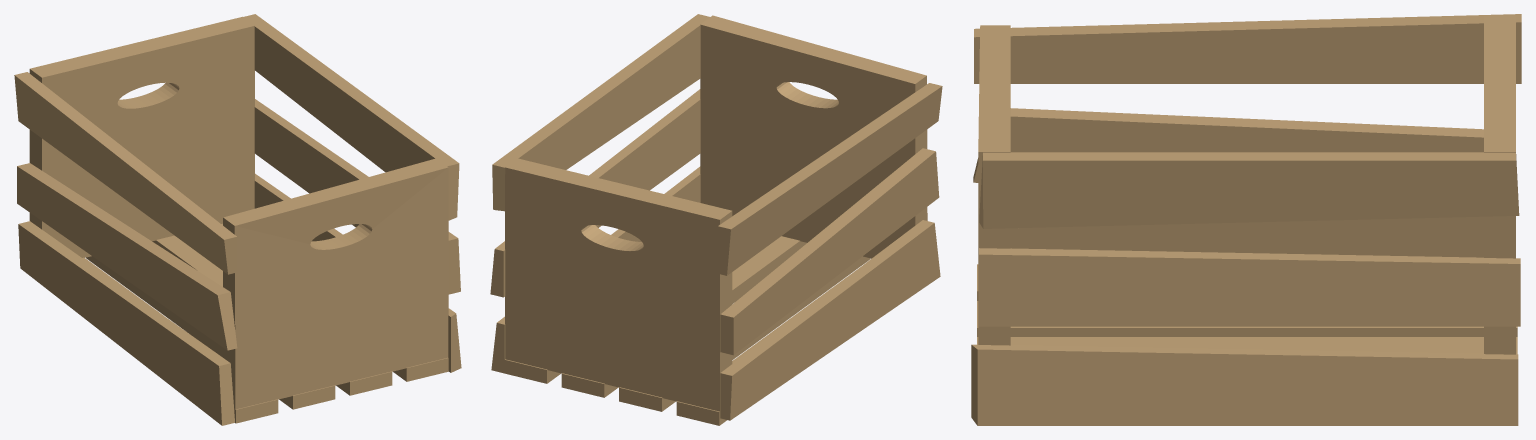
The model's file is CarryCrate.fbx.
The picture shows the model from 3 angles, left to right: view 1: azimuth 30°, elevation 25°; view 2: azimuth 150°, elevation 25°; view 3: azimuth 270°, elevation 25°; orthographic projection. The views are drawn at different scales.
Parts seen in each view (by area): view 1: Left Wall, Right Wall, Bottom Right Plank, Middle Right Plank, Top Right Plank, Top Left Plank, Middle Left Plank, Middle Right Floor Plank, Middle Left Floor Plank, Bottom Left Plank, Right Floor Plank, Left Floor Plank; view 2: Right Wall, Left Wall, Bottom Right Plank, Middle Right Plank, Top Right Plank, Top Left Plank, Middle Left Plank, Middle Left Floor Plank, Middle Right Floor Plank, Bottom Left Plank, Right Floor Plank, Left Floor Plank; view 3: Bottom Left Plank, Middle Left Plank, Top Left Plank, Top Right Plank, Middle Right Plank, Bottom Right Plank, Right Wall, Middle Left Floor Plank, Left Wall, Middle Right Floor Plank.
Boxes of the visible parts, bbox=[...] form: Left Wall: bbox=[223, 158, 448, 409]; Right Wall: bbox=[29, 16, 254, 257]; Bottom Right Plank: bbox=[18, 221, 234, 425]; Middle Right Plank: bbox=[17, 163, 237, 350]; Top Right Plank: bbox=[14, 72, 237, 274]; Top Left Plank: bbox=[243, 14, 459, 220]; Middle Left Plank: bbox=[254, 99, 460, 294]; Middle Right Floor Plank: bbox=[86, 256, 335, 409]; Middle Left Floor Plank: bbox=[152, 235, 392, 395]; Bottom Left Plank: bbox=[254, 173, 461, 372]; Right Floor Plank: bbox=[82, 257, 278, 423]; Left Floor Plank: bbox=[221, 223, 448, 381]; Right Wall: bbox=[505, 158, 732, 411]; Left Wall: bbox=[700, 15, 927, 258]; Bottom Right Plank: bbox=[720, 220, 940, 420]; Middle Right Plank: bbox=[720, 148, 939, 355]; Top Right Plank: bbox=[717, 83, 942, 275]; Top Left Plank: bbox=[492, 14, 709, 211]; Middle Left Plank: bbox=[490, 89, 700, 297]; Middle Left Floor Plank: bbox=[561, 236, 806, 397]; Middle Right Floor Plank: bbox=[619, 256, 870, 411]; Bottom Left Plank: bbox=[491, 166, 700, 373]; Right Floor Plank: bbox=[676, 274, 850, 425]; Left Floor Plank: bbox=[504, 359, 560, 383]; Bottom Left Plank: bbox=[971, 344, 1518, 425]; Middle Left Plank: bbox=[979, 248, 1520, 326]; Top Left Plank: bbox=[979, 152, 1519, 228]; Top Right Plank: bbox=[974, 14, 1521, 83]; Middle Right Plank: bbox=[973, 108, 1483, 182]; Bottom Right Plank: bbox=[1010, 216, 1483, 257]; Right Wall: bbox=[1484, 16, 1515, 354]; Middle Left Floor Plank: bbox=[977, 337, 1517, 354]; Left Wall: bbox=[978, 25, 1010, 345]; Middle Right Floor Plank: bbox=[977, 301, 1517, 336].
Bounding box in the file's own units: 67.22 × 54.82 × 103.
